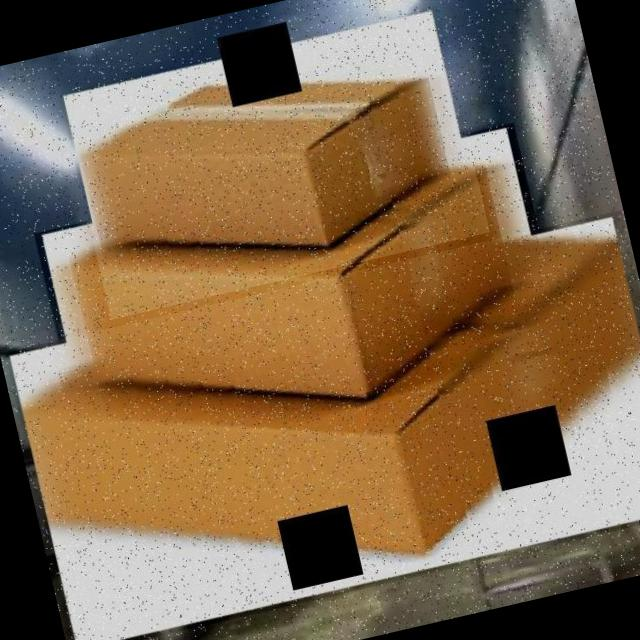box: (0, 209, 640, 640), (34, 122, 568, 464), (59, 5, 491, 319)
